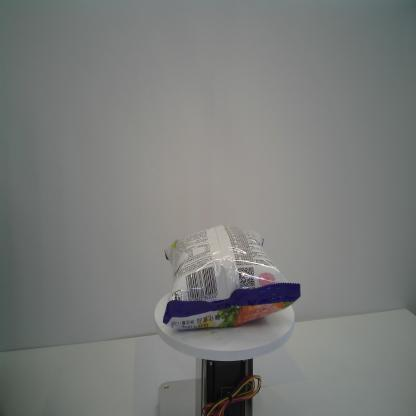Puffed Food: (162, 224, 302, 332)
